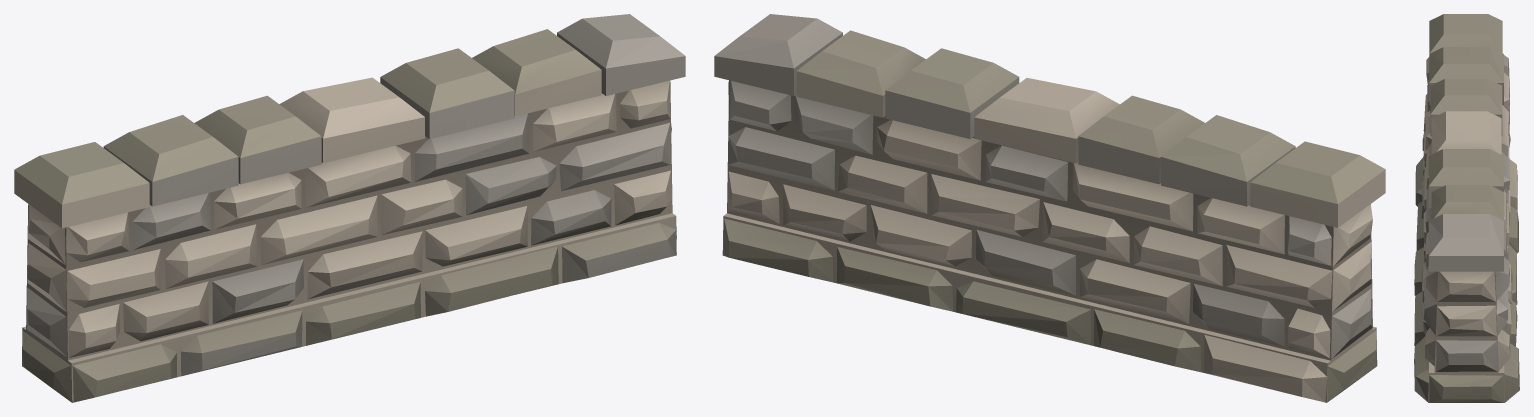
Rendered from swall.glb.
3 renders of one model, left to right at view 1: azimuth 30°, elevation 25°; view 2: azimuth 150°, elevation 25°; view 3: azimuth 270°, elevation 25°, orthographic. The views are drawn at different scales.
Visible parts, largest first — view 1: swall; view 2: swall; view 3: swall.
Part boxes in pixels (x1=…): swall: x1=14, y1=14, x2=685, y2=402; swall: x1=714, y1=14, x2=1385, y2=402; swall: x1=1414, y1=14, x2=1519, y2=402.
Size of the model in its own units: 4 by 1.36 by 0.7691.
